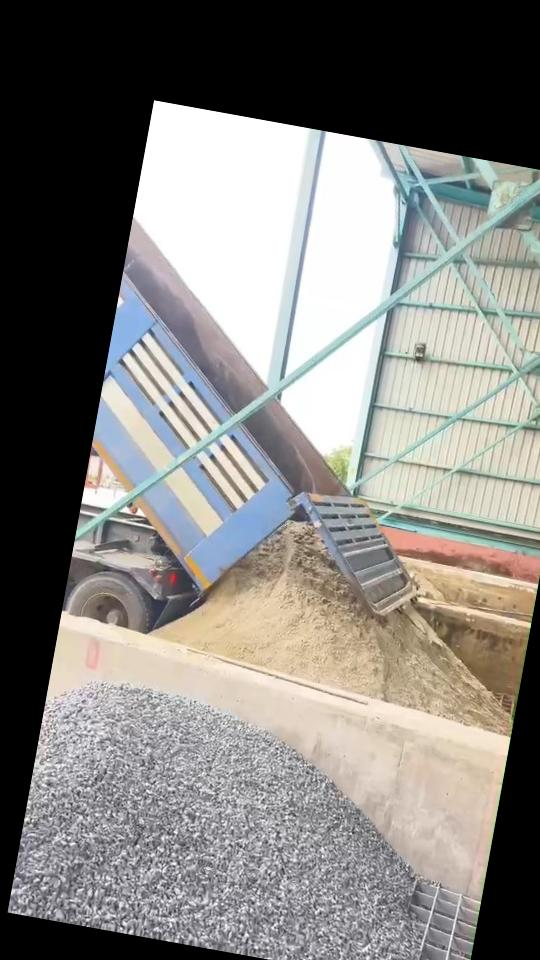gravel: (8, 683, 420, 960)
sand: (155, 523, 509, 733), (407, 566, 444, 601)
